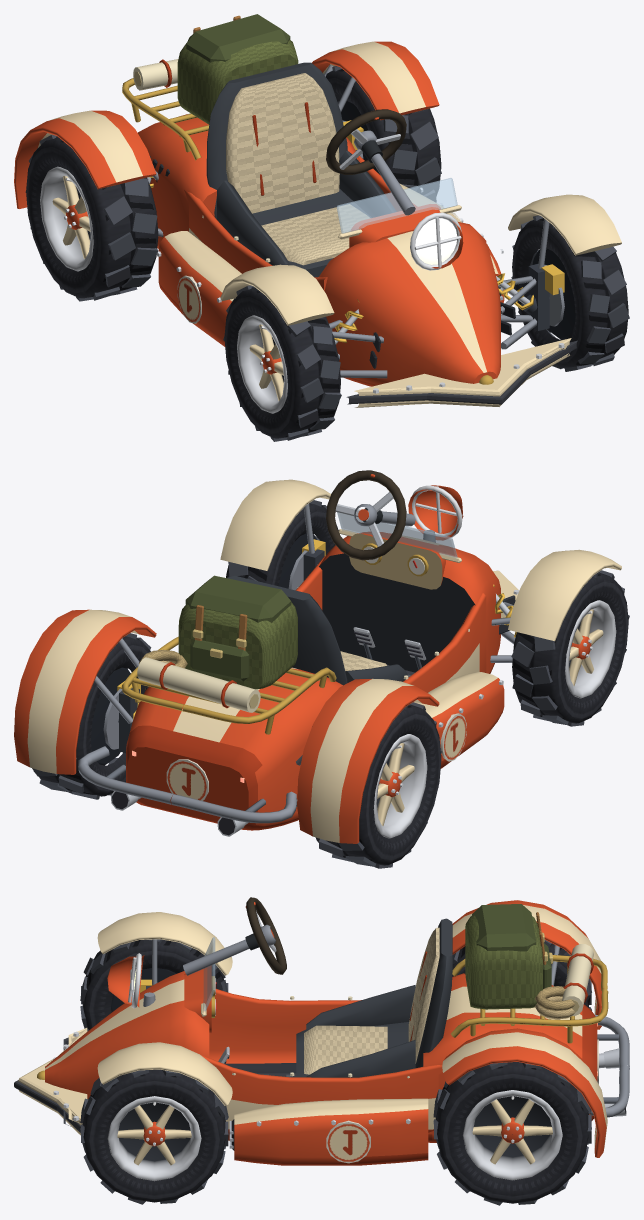
The model's file is flecha.glb.
The picture shows the model from 3 angles, top to bottom: view 1: azimuth 30°, elevation 25°; view 2: azimuth 150°, elevation 25°; view 3: azimuth 270°, elevation 25°; orthographic projection. The views are drawn at different scales.
Visible parts, largest first — view 1: body_mesh, wheel_rr_mesh, wheel_fr_mesh, wheel_fl_mesh, wheel_rl_mesh, steering_mesh; view 2: body_mesh, wheel_fr_mesh, wheel_rr_mesh, wheel_rl_mesh, steering_mesh, wheel_fl_mesh; view 3: body_mesh, wheel_rl_mesh, wheel_fl_mesh, wheel_fr_mesh, steering_mesh, wheel_rr_mesh.
Boxes of the visible parts, x1,y1,x2,y2 form: body_mesh: (14,14,621,407); wheel_rr_mesh: (25,134,158,301); wheel_fr_mesh: (223,285,341,441); wheel_fl_mesh: (511,215,629,371); wheel_rl_mesh: (323,66,441,201); steering_mesh: (326,109,406,174); body_mesh: (14,479,621,843); wheel_fr_mesh: (511,570,629,726); wheel_rr_mesh: (315,702,441,868); wheel_rl_mesh: (32,633,151,799); steering_mesh: (326,470,406,560); wheel_fl_mesh: (226,500,338,588); body_mesh: (14,900,629,1165); wheel_rl_mesh: (433,1062,591,1205); wheel_fl_mesh: (80,1069,228,1204); wheel_fr_mesh: (80,939,228,1030); steering_mesh: (245,897,286,974); wheel_rr_mesh: (452,940,591,1010).
Bounding box in the file's own units: 1.51 × 1.02 × 2.48.
Materials: 12 (3 with a texture image).
